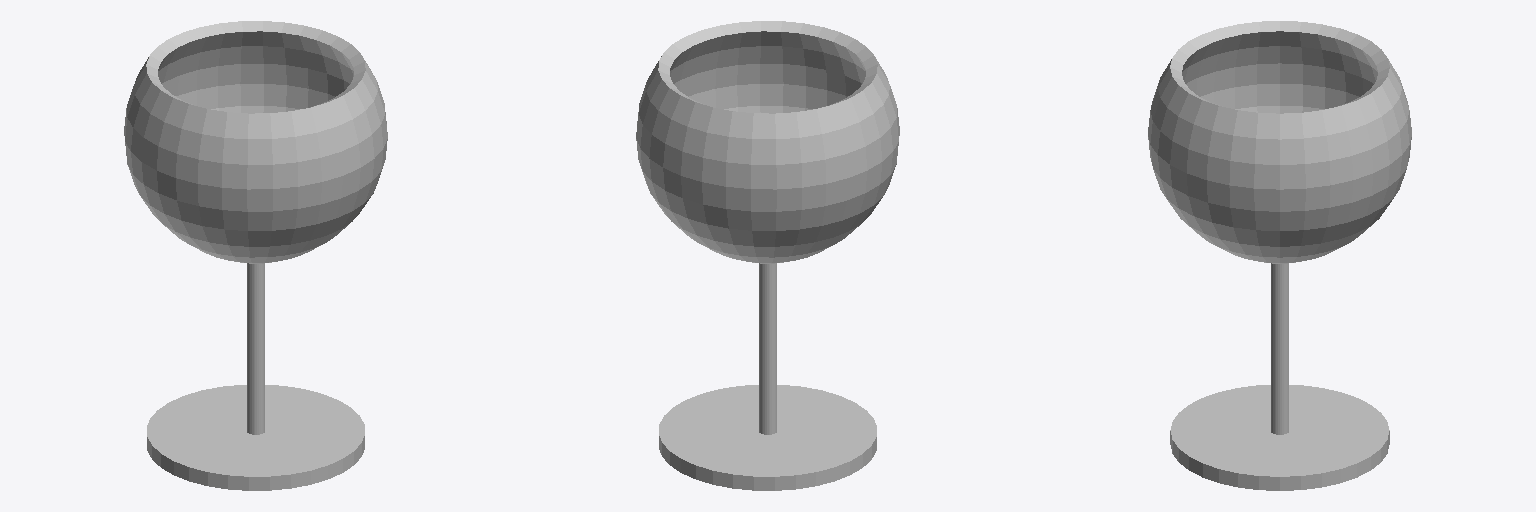
Rendered from glass2.obj.
3 renders of one model, left to right at view 1: azimuth 30°, elevation 25°; view 2: azimuth 150°, elevation 25°; view 3: azimuth 270°, elevation 25°, orthographic.
Visible parts, largest first — view 1: Sphere; view 2: Sphere; view 3: Sphere.
Part boxes in pixels (left/top/right/bottom): Sphere: left=124, top=21, right=387, bottom=490; Sphere: left=636, top=21, right=899, bottom=490; Sphere: left=1148, top=21, right=1411, bottom=490.
Size of the model in its own units: 3.89 by 6.13 by 3.89.